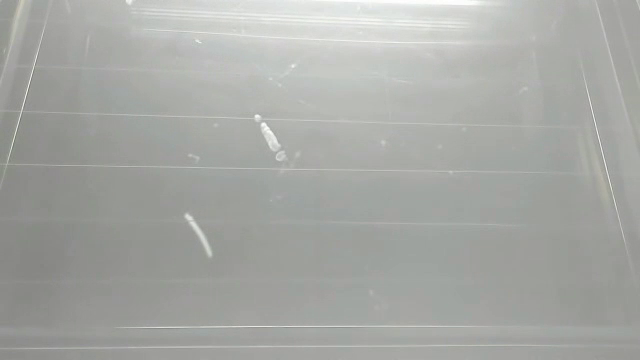alpha: (252, 111, 290, 163), (181, 211, 219, 261)
